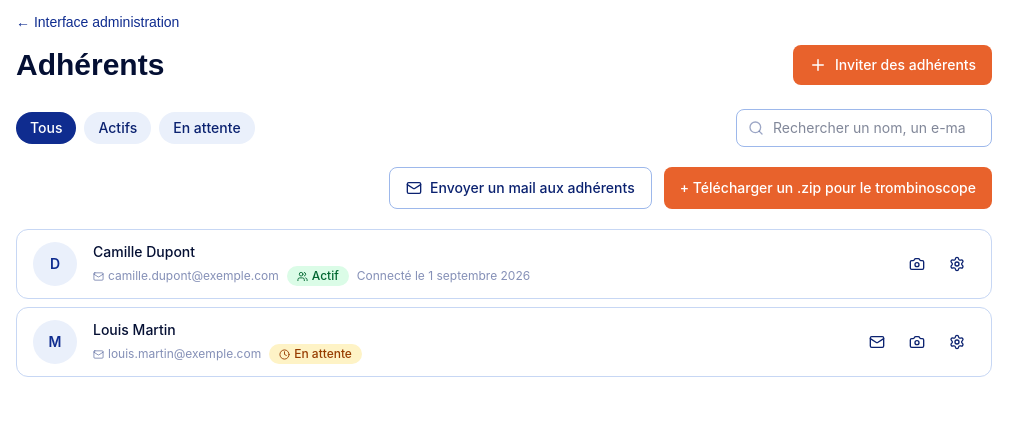
Scenario: GestionAdherents › affiche l'état vide quand rien ne correspond
Expected: the text "Camille Dupont" is shown, x1=93 y1=243 x2=195 y2=260
Type "inconnu" into the search field with placeholder "Rechercher un nom, un e-mail…".
click(864, 128); type("inconnu")  # box x1=736 y1=109 x2=992 y2=147
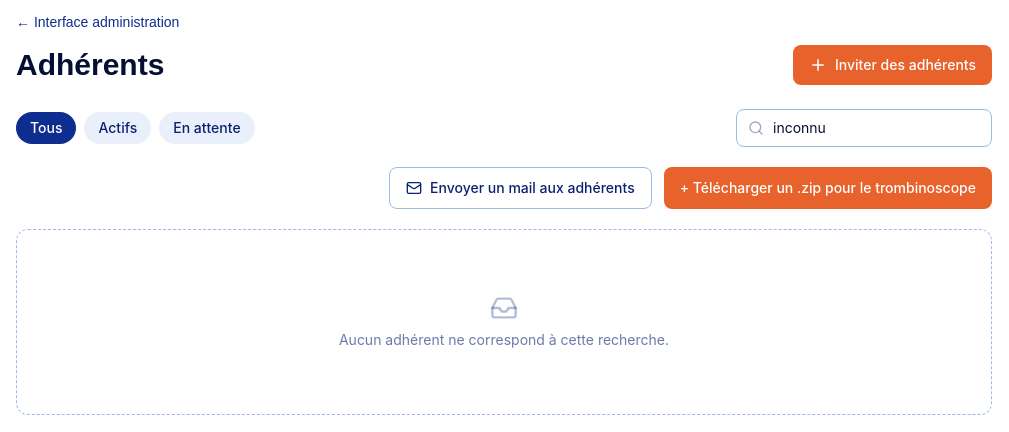
Now the text "Aucun adhérent ne correspond à cette recherche." is shown, box x1=339 y1=330 x2=669 y2=350
